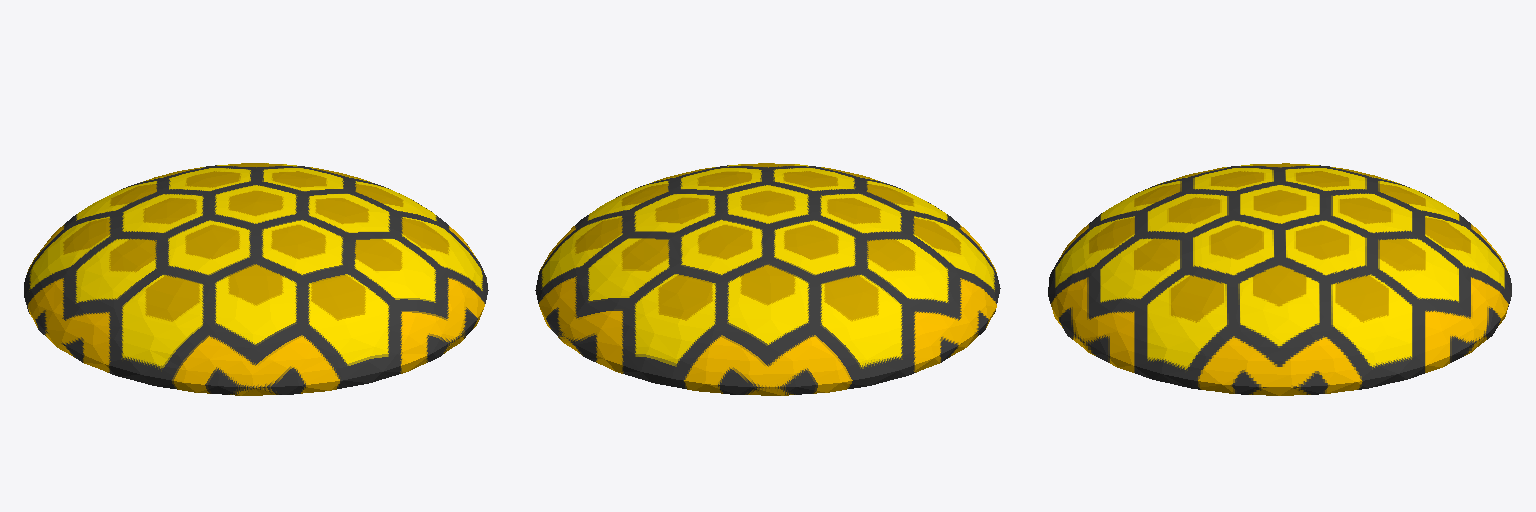
3 views of the same model, side by side, from view 1: azimuth 30°, elevation 25°; view 2: azimuth 150°, elevation 25°; view 3: azimuth 270°, elevation 25° (orthographic).
Parts seen in each view (by area): view 1: 球; view 2: 球; view 3: 球.
Boxes of the visible parts, x1,y1,x2,y2 form: 球: [24, 163, 488, 395]; 球: [535, 163, 1000, 395]; 球: [1048, 163, 1511, 395].
Size of the model in its own units: 1.94 by 0.4969 by 1.94.
1 materials, 1 textured.